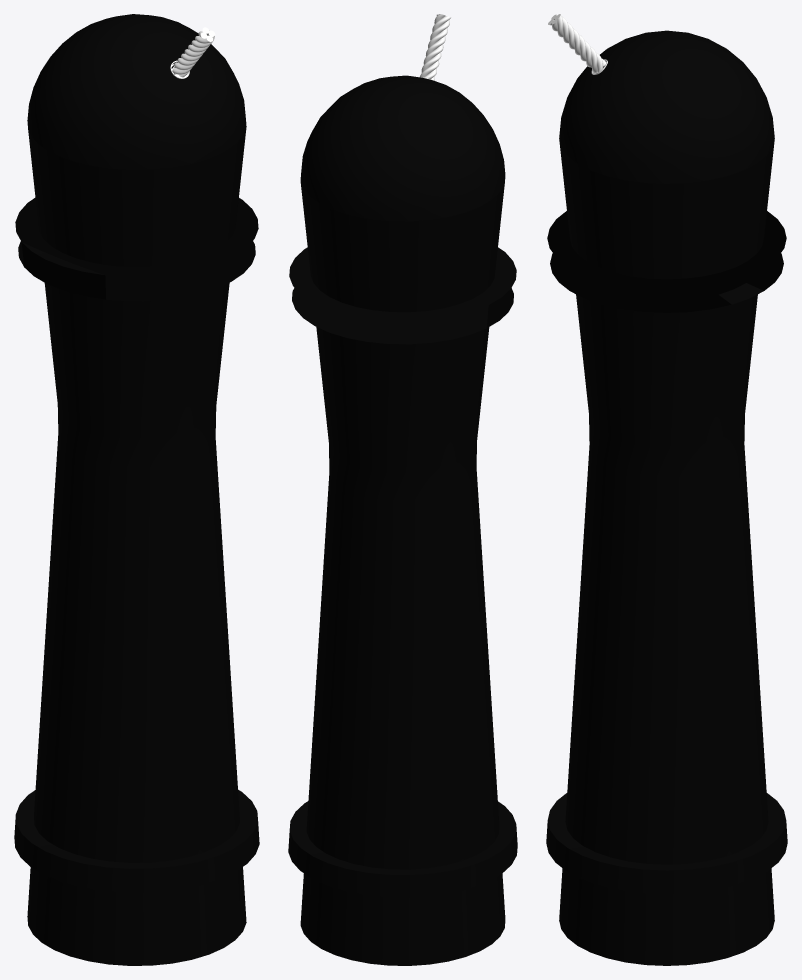
Rendered from CannonOnly.obj.
The picture shows the model from 3 angles, left to right: view 1: azimuth 30°, elevation 25°; view 2: azimuth 150°, elevation 25°; view 3: azimuth 270°, elevation 25°; orthographic projection. The views are drawn at different scales.
Parts seen in each view (by area): view 1: Cannon_Cylinder, Fuse_Circle.004; view 2: Cannon_Cylinder, Fuse_Circle.004; view 3: Cannon_Cylinder, Fuse_Circle.004.
Part boxes in pixels (x1,y1,x2,y2): Cannon_Cylinder: [14, 14, 259, 965]; Fuse_Circle.004: [170, 27, 215, 78]; Cannon_Cylinder: [288, 75, 517, 965]; Fuse_Circle.004: [420, 14, 450, 80]; Cannon_Cylinder: [546, 30, 787, 965]; Fuse_Circle.004: [548, 14, 607, 74].
Bounding box in the file's own units: 0.5598 × 2.33 × 0.5598.
2 materials, 2 textured.
